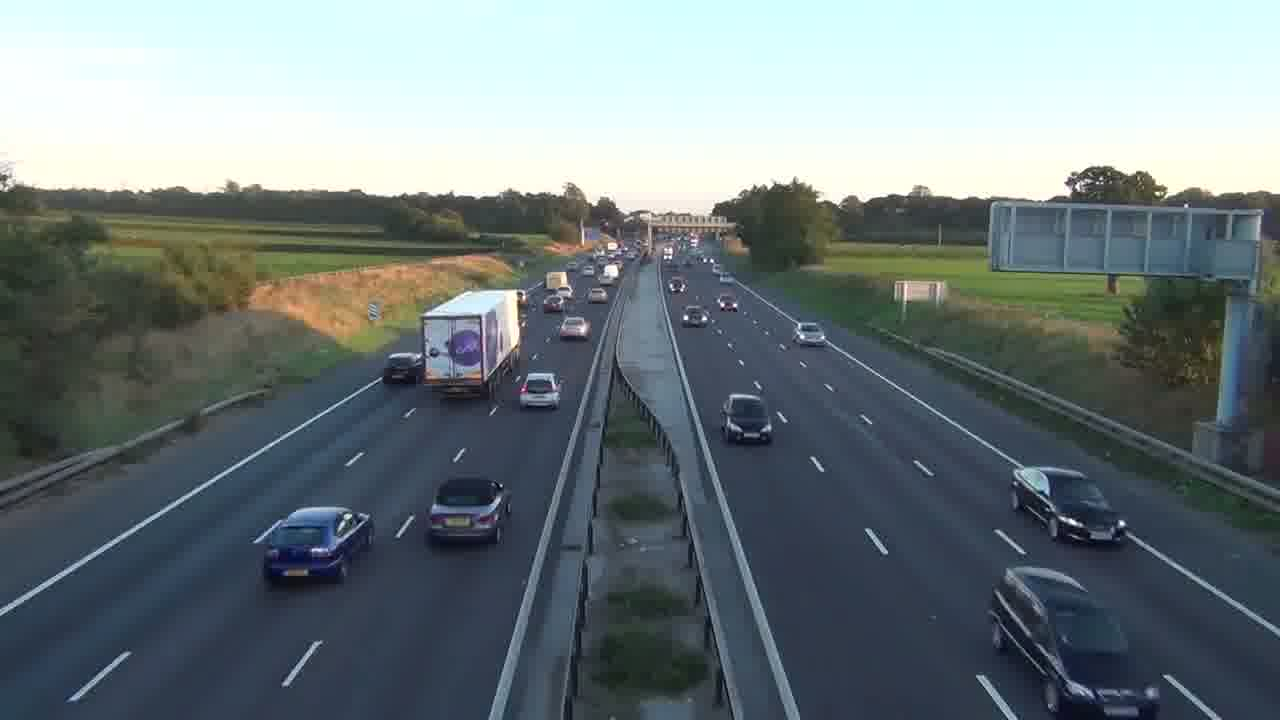car: (1009, 464, 1129, 546), (424, 476, 513, 546), (720, 393, 774, 445), (519, 370, 561, 409), (383, 351, 425, 384), (558, 315, 592, 341)
truck: (986, 562, 1160, 717), (419, 289, 521, 398), (1009, 464, 1129, 546)
